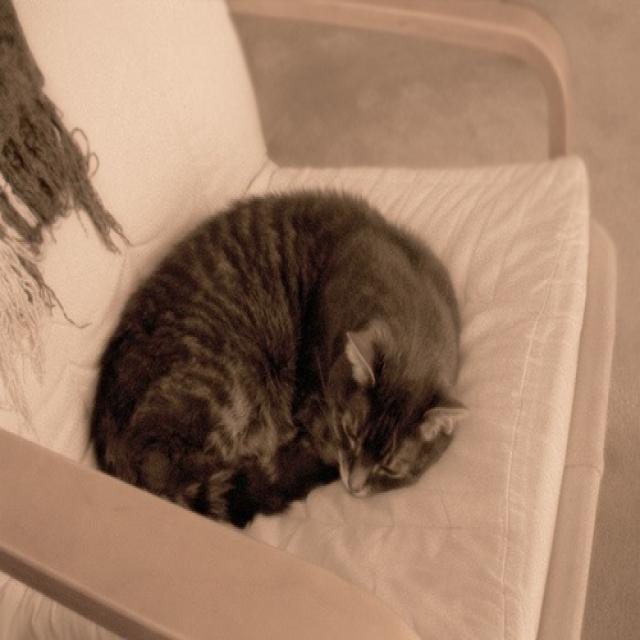cat: (92, 194, 464, 525)
chair: (0, 4, 613, 638)
